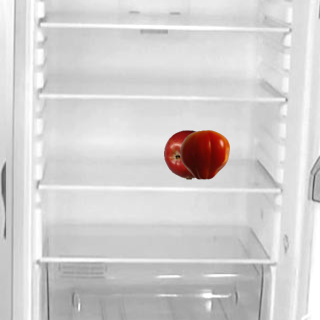Apple Braeburn: (163, 129, 213, 179)
Tomato 1: (179, 129, 229, 179)
